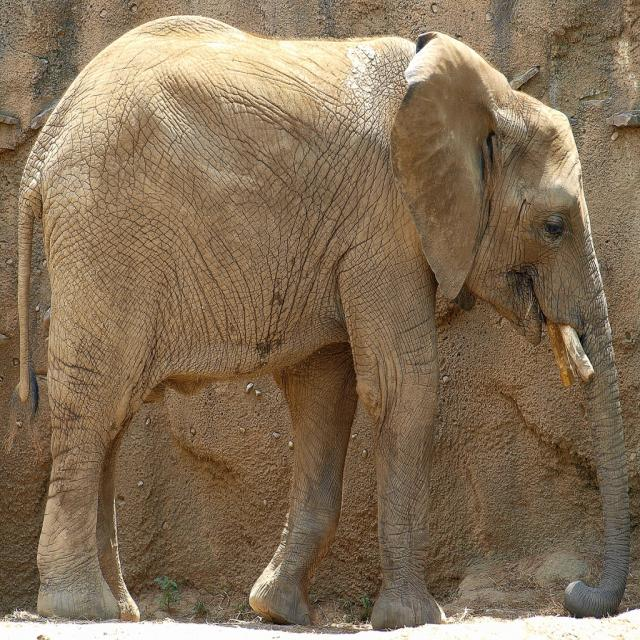Elephant: (18, 11, 632, 616)
